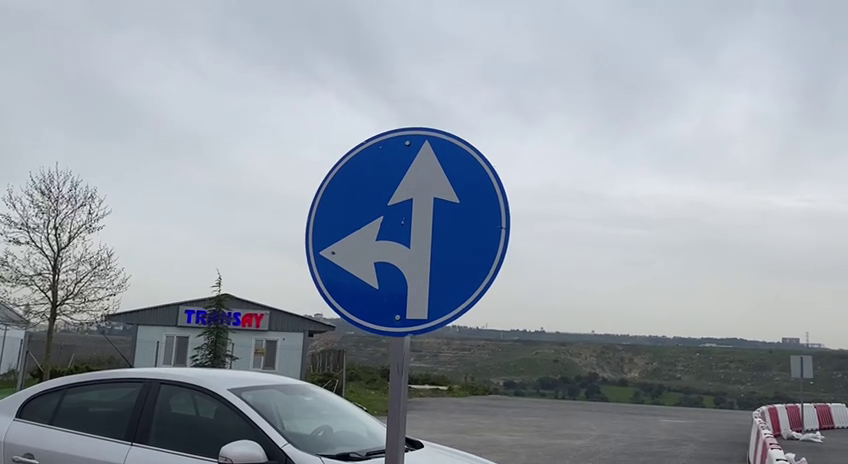forwardAndLeft: (300, 122, 513, 343)
